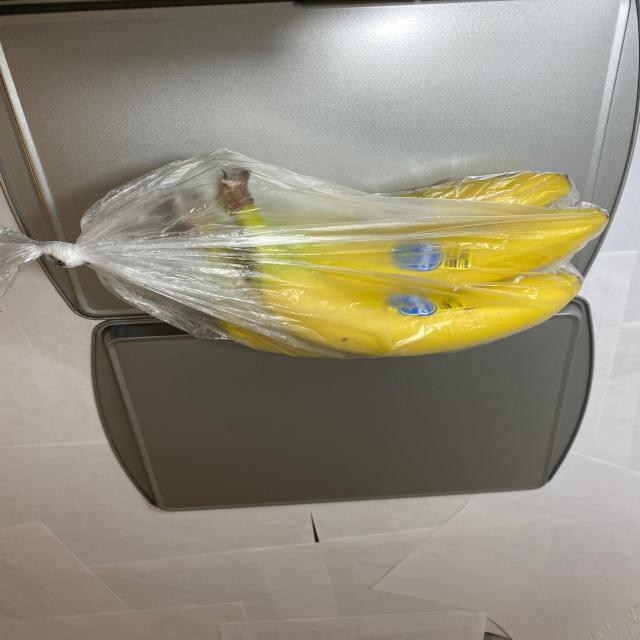banana: (142, 142, 612, 364)
